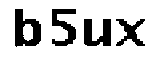5: (45, 5, 81, 51)
b: (7, 5, 45, 50)
u: (80, 16, 116, 54)
x: (117, 18, 150, 49)
